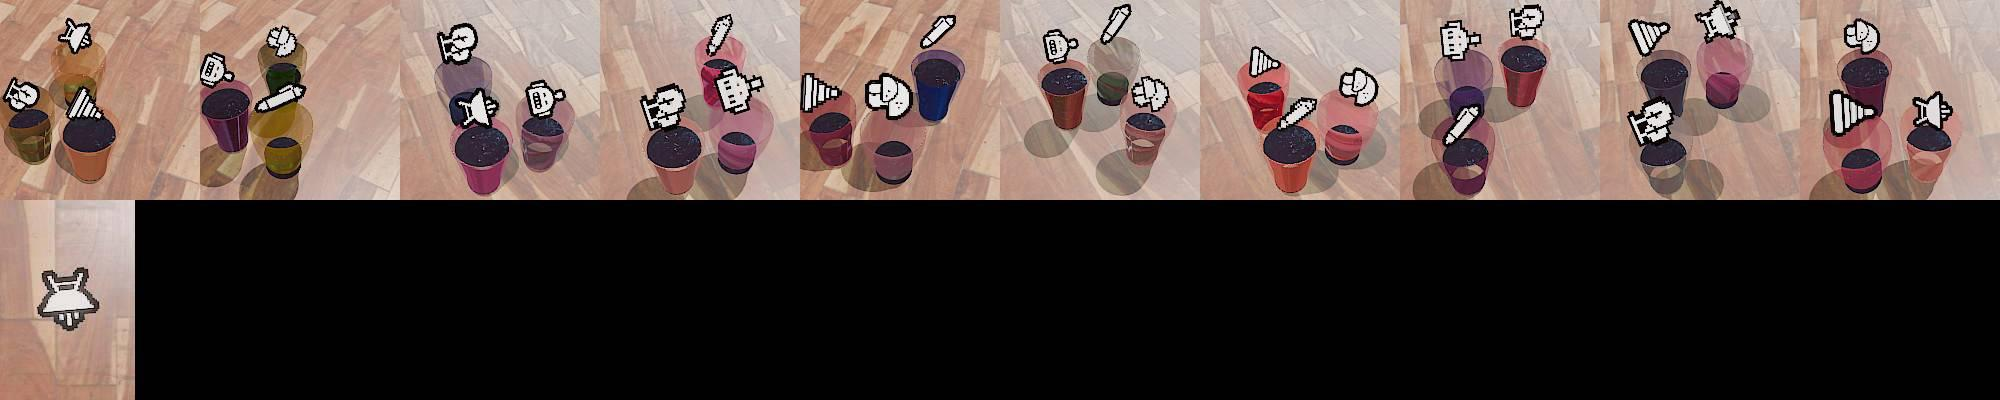icon: (36, 266, 102, 331), (713, 65, 768, 118), (639, 83, 689, 132), (1626, 96, 1676, 145), (865, 70, 913, 120), (1829, 88, 1878, 136), (453, 87, 501, 129), (436, 23, 480, 66), (1443, 101, 1483, 146), (1695, 1, 1741, 42), (800, 71, 843, 113), (523, 78, 568, 118), (1440, 19, 1482, 61), (254, 83, 309, 113), (1912, 90, 1954, 130), (1277, 94, 1319, 134), (1130, 73, 1171, 112), (1629, 18, 1671, 56), (1339, 68, 1379, 106), (1098, 3, 1133, 46), (1508, 3, 1545, 41), (1042, 28, 1079, 65), (199, 51, 236, 88), (920, 11, 955, 50), (1844, 18, 1880, 55), (4, 76, 41, 112), (66, 85, 102, 120), (60, 18, 93, 55), (1247, 46, 1282, 80), (705, 14, 733, 56), (265, 24, 298, 59)
